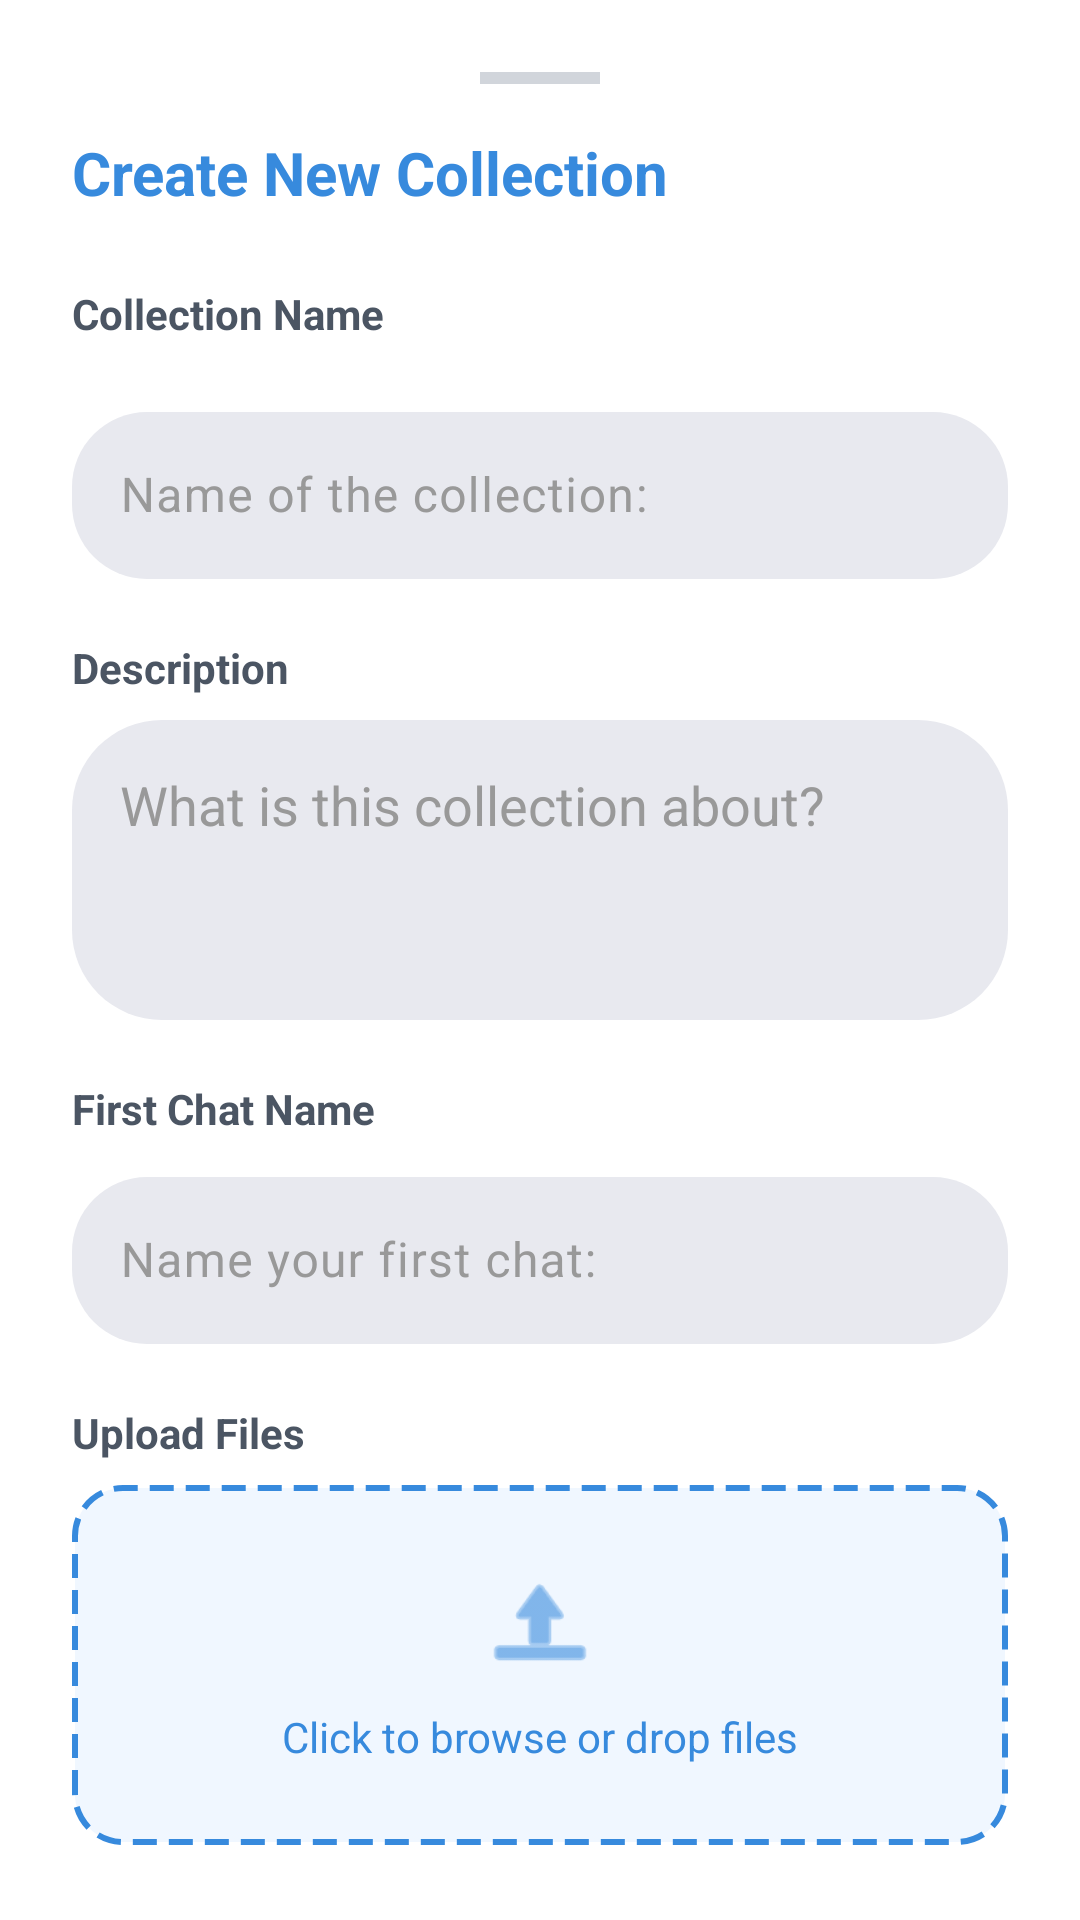

Icon bounding boxes for this 1080 x 1920 phone screenshot, format (x1, y1, x2, y2):
upload: (494, 1584, 586, 1661)
